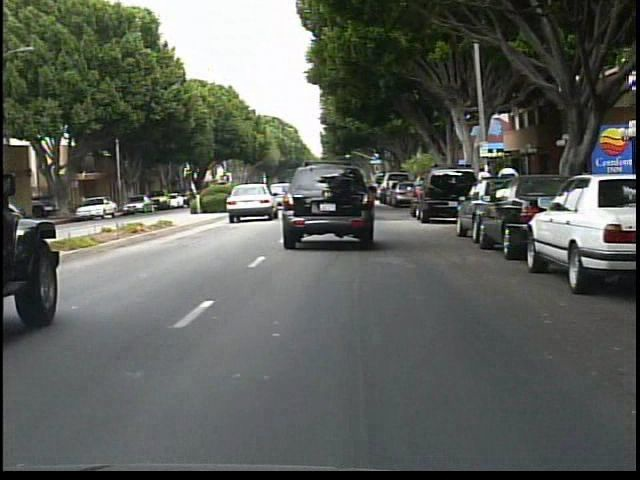person: (496, 159, 520, 214), (474, 164, 494, 210), (75, 189, 93, 221)
